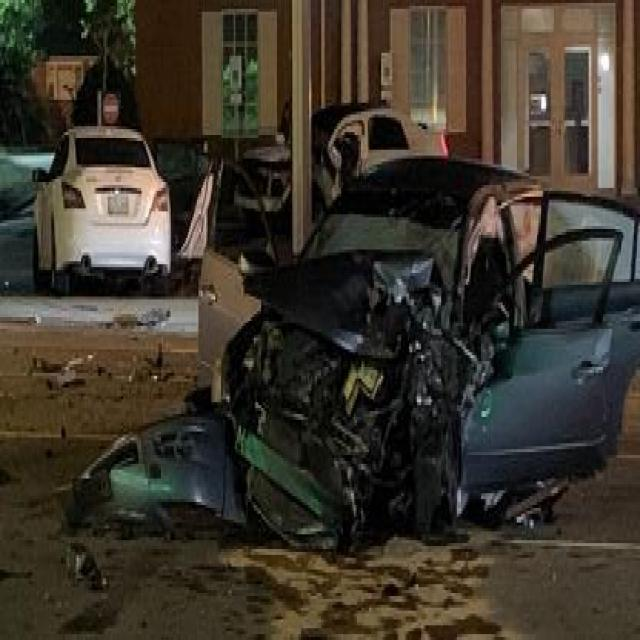accident: (134, 85, 637, 561)
